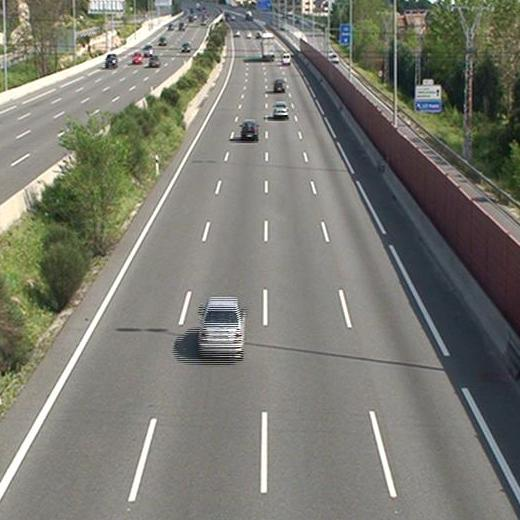car: (197, 297, 248, 358), (239, 119, 258, 140), (271, 100, 288, 119), (273, 78, 287, 93)
truck: (261, 32, 275, 63)
van: (281, 52, 289, 66)
